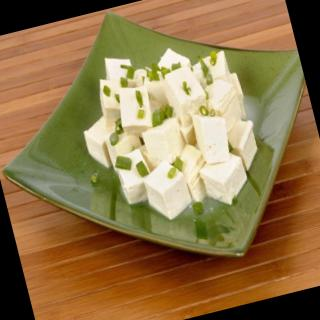Tahu: (72, 20, 281, 227)
